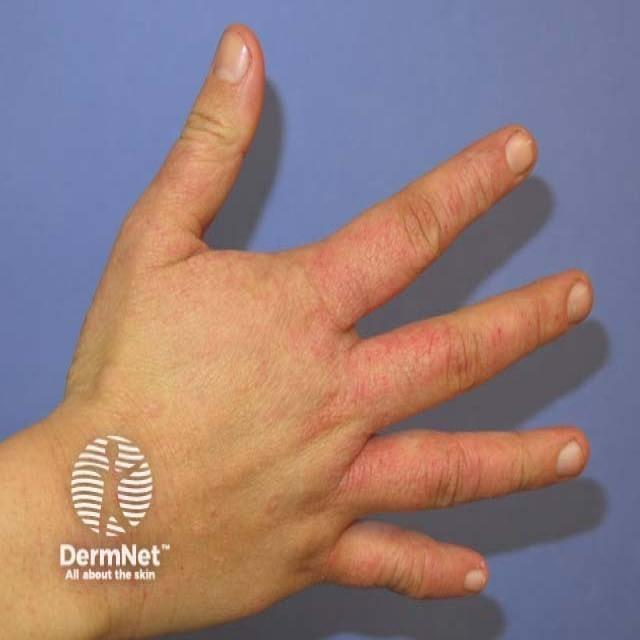Eczema: (300, 138, 530, 328), (328, 304, 565, 422), (335, 436, 521, 516), (306, 526, 446, 596)
